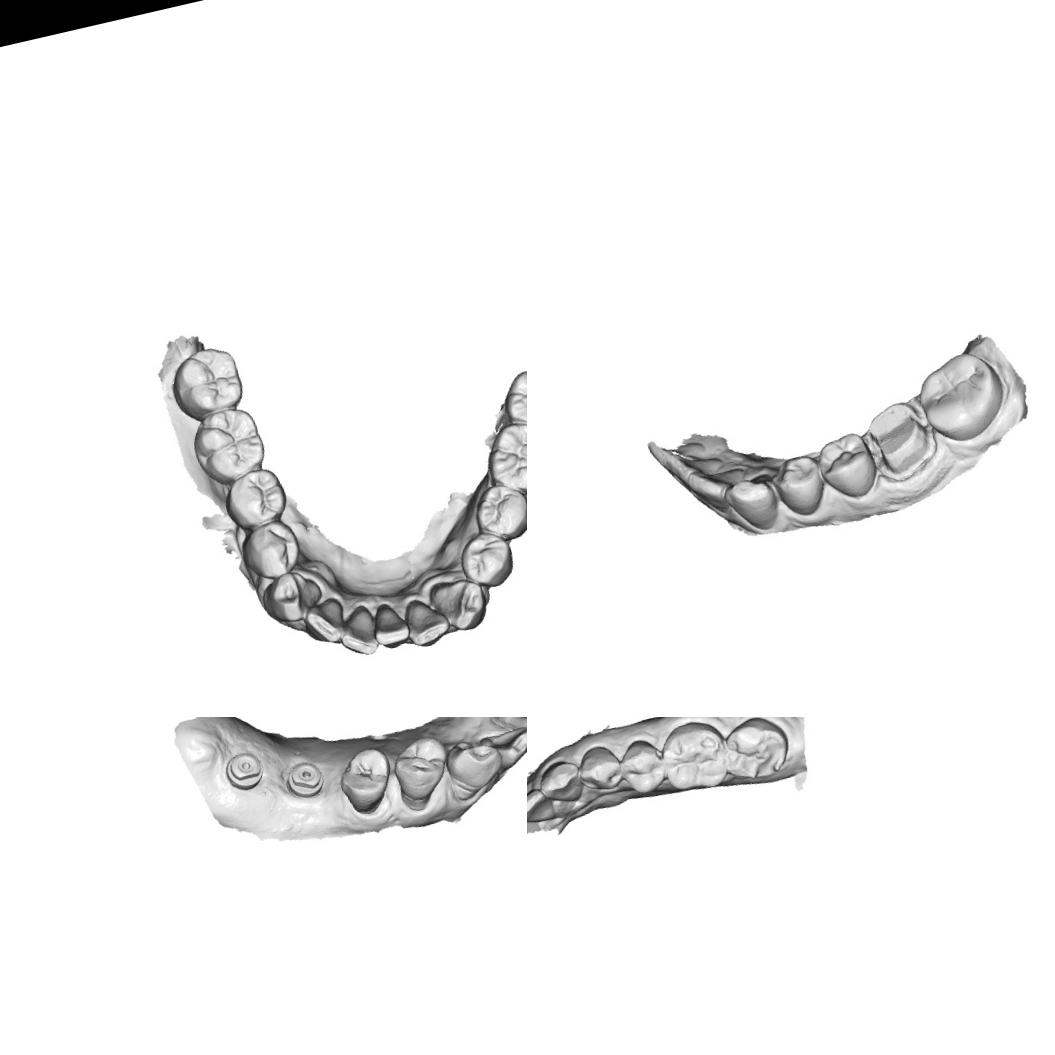canine: (439, 732, 510, 804), (256, 564, 328, 629), (425, 570, 493, 638), (720, 471, 784, 539), (533, 755, 589, 811)
crown: (859, 394, 940, 484)
implant: (220, 746, 268, 795), (280, 757, 328, 804)
incisor: (400, 590, 454, 651), (686, 462, 754, 510), (332, 600, 381, 664), (299, 593, 353, 650), (662, 440, 726, 487), (366, 596, 414, 654), (476, 723, 527, 775), (527, 782, 560, 831), (486, 717, 527, 745)
molar: (908, 342, 1016, 451), (184, 401, 272, 490), (163, 338, 250, 423), (652, 717, 733, 798), (716, 717, 797, 786), (477, 414, 527, 502), (495, 360, 527, 442)
premolar: (386, 732, 459, 814), (811, 426, 884, 506), (234, 516, 308, 586), (332, 744, 400, 820), (220, 461, 293, 531), (766, 448, 832, 524), (453, 526, 520, 594), (468, 477, 527, 548), (612, 733, 671, 800), (572, 739, 628, 799)
